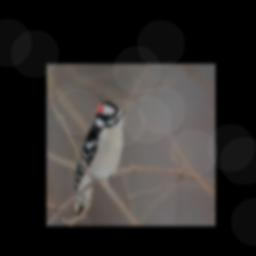Woodpecker: (73, 101, 127, 216)
